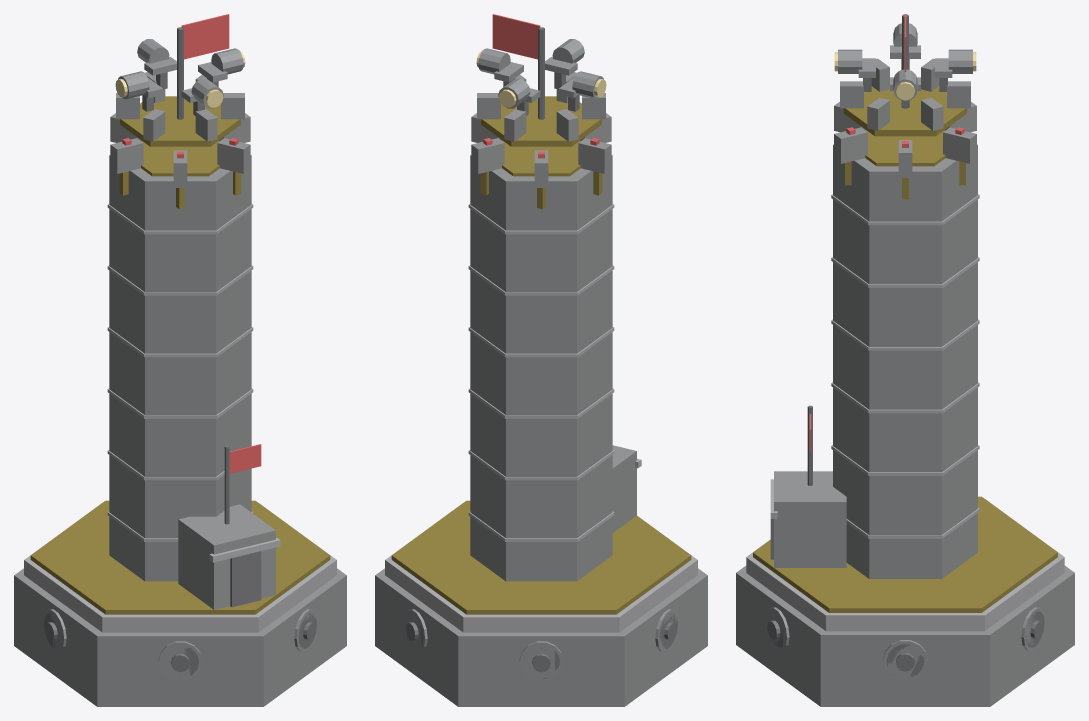
The model's file is watch_tower_s3_100.glb.
The picture shows the model from 3 angles, left to right: view 1: azimuth 30°, elevation 25°; view 2: azimuth 150°, elevation 25°; view 3: azimuth 270°, elevation 25°; orthographic projection.
Parts seen in each view (by area): view 1: WT_Base; view 2: WT_Base; view 3: WT_Base.
Boxes of the visible parts, x1=… form: WT_Base: x1=14, y1=14, x2=346, y2=706; WT_Base: x1=375, y1=14, x2=707, y2=706; WT_Base: x1=736, y1=14, x2=1074, y2=706.
Size of the model in its own units: 1.78 by 4.03 by 1.96.
